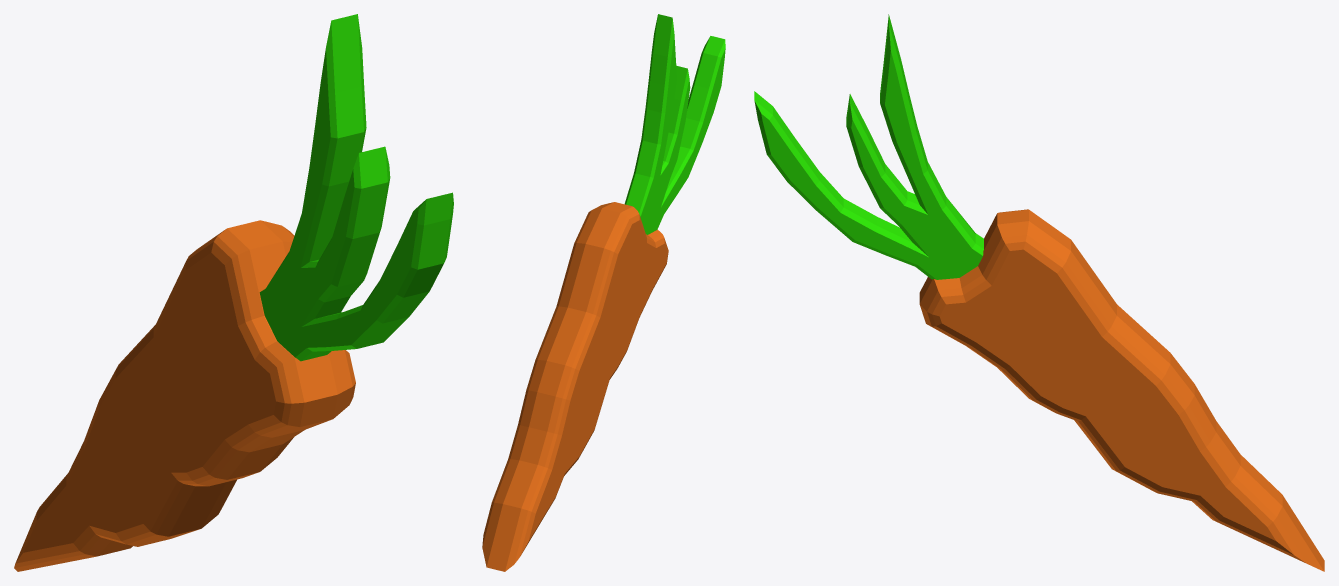
The model's file is carrot.fbx.
3 views of the same model, side by side, from view 1: azimuth 30°, elevation 25°; view 2: azimuth 150°, elevation 25°; view 3: azimuth 270°, elevation 25° (orthographic). The views are drawn at different scales.
Visible parts, largest first — view 1: Plane, Plane.001; view 2: Plane, Plane.001; view 3: Plane, Plane.001.
Part boxes in pixels (box(x1,y1,x2,y2)): Plane: box(14, 220, 355, 571); Plane.001: box(259, 14, 453, 361); Plane: box(482, 202, 668, 571); Plane.001: box(624, 14, 725, 234); Plane: box(919, 209, 1324, 571); Plane.001: box(754, 14, 983, 279).
Size of the model in its own units: 29.07 by 260 by 245.
